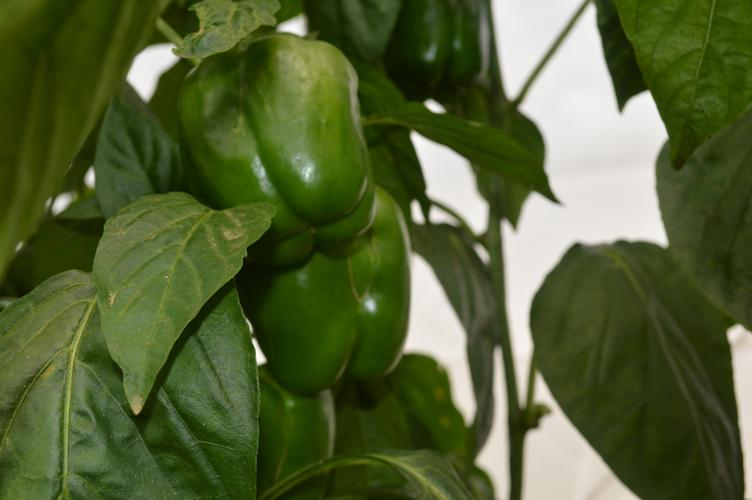BellPepper: (176, 33, 375, 259), (242, 187, 412, 387), (387, 5, 482, 96)
